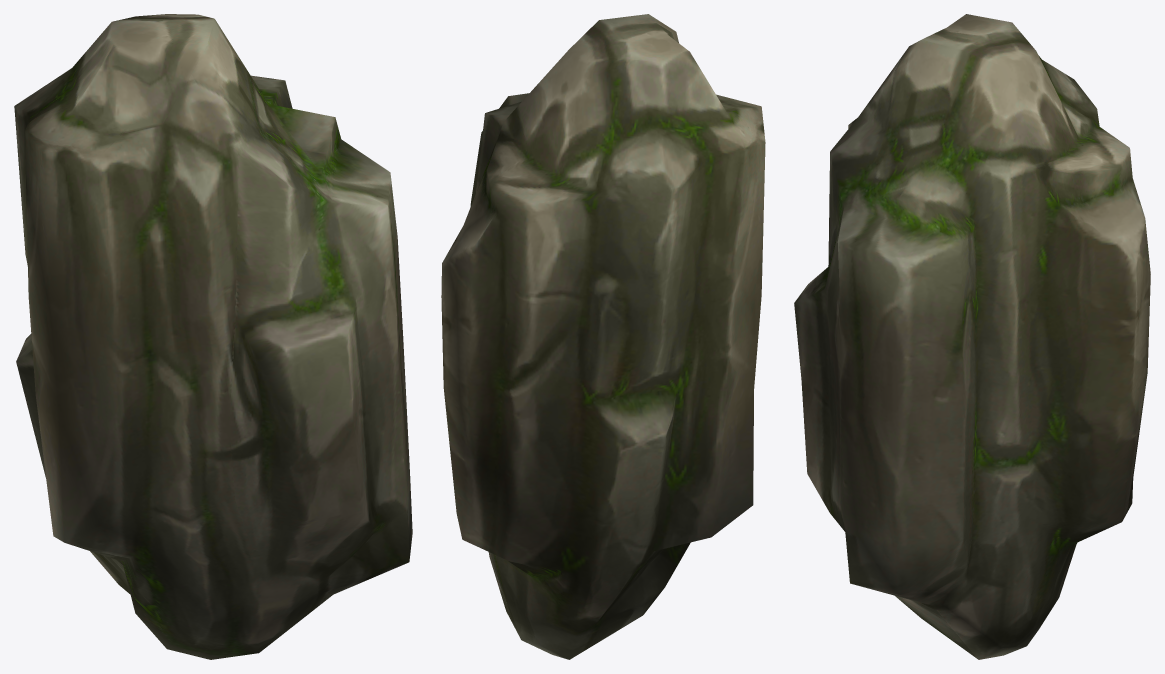
The model's file is RockFormation_4_2 (45).fbx.
The picture shows the model from 3 angles, left to right: view 1: azimuth 30°, elevation 25°; view 2: azimuth 150°, elevation 25°; view 3: azimuth 270°, elevation 25°; orthographic projection. The views are drawn at different scales.
Visible parts, largest first — view 1: RockFormation_4_2 (45); view 2: RockFormation_4_2 (45); view 3: RockFormation_4_2 (45).
Boxes of the visible parts, <box> form: RockFormation_4_2 (45): <box>14,14,412,659</box>; RockFormation_4_2 (45): <box>441,14,765,659</box>; RockFormation_4_2 (45): <box>794,14,1150,659</box>.
Bounding box in the file's own units: 259 × 487 × 265.
